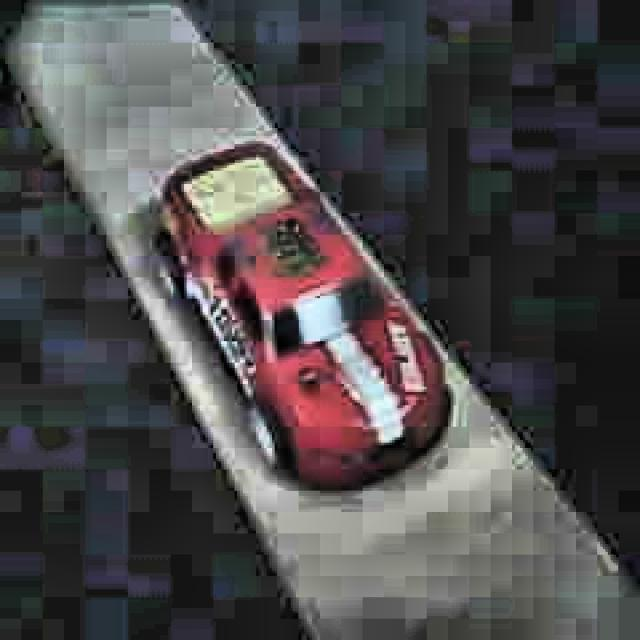car: (149, 136, 456, 497)
